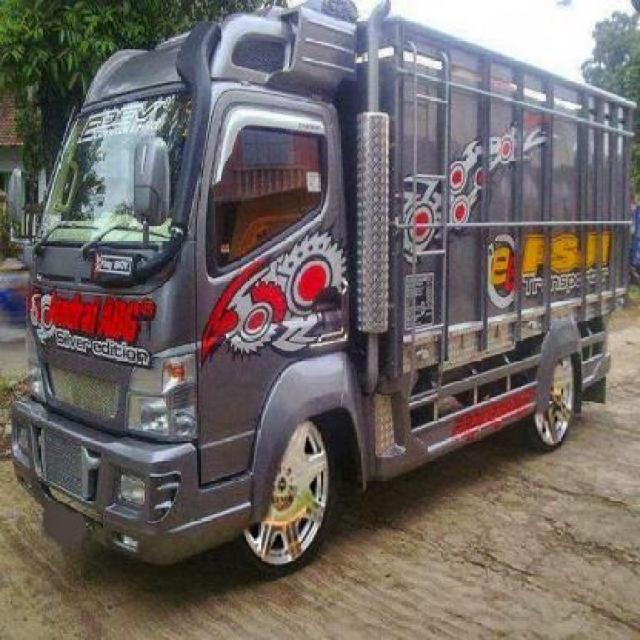truck: (1, 1, 639, 584)
